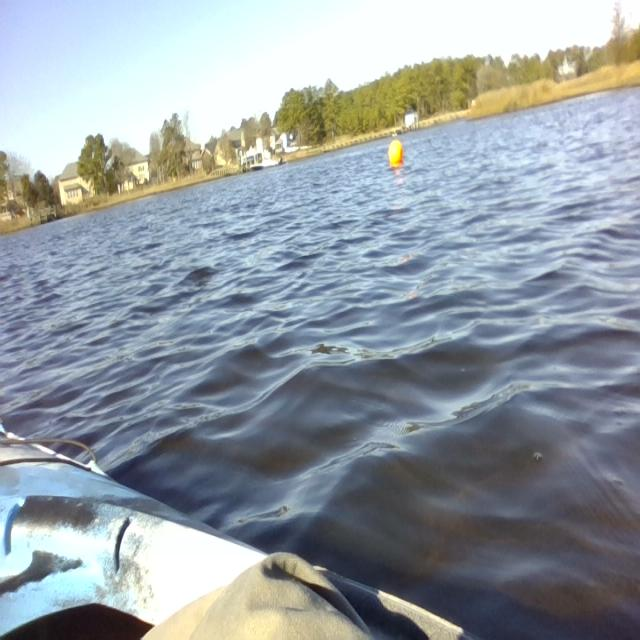Buoy: (386, 136, 407, 173)
